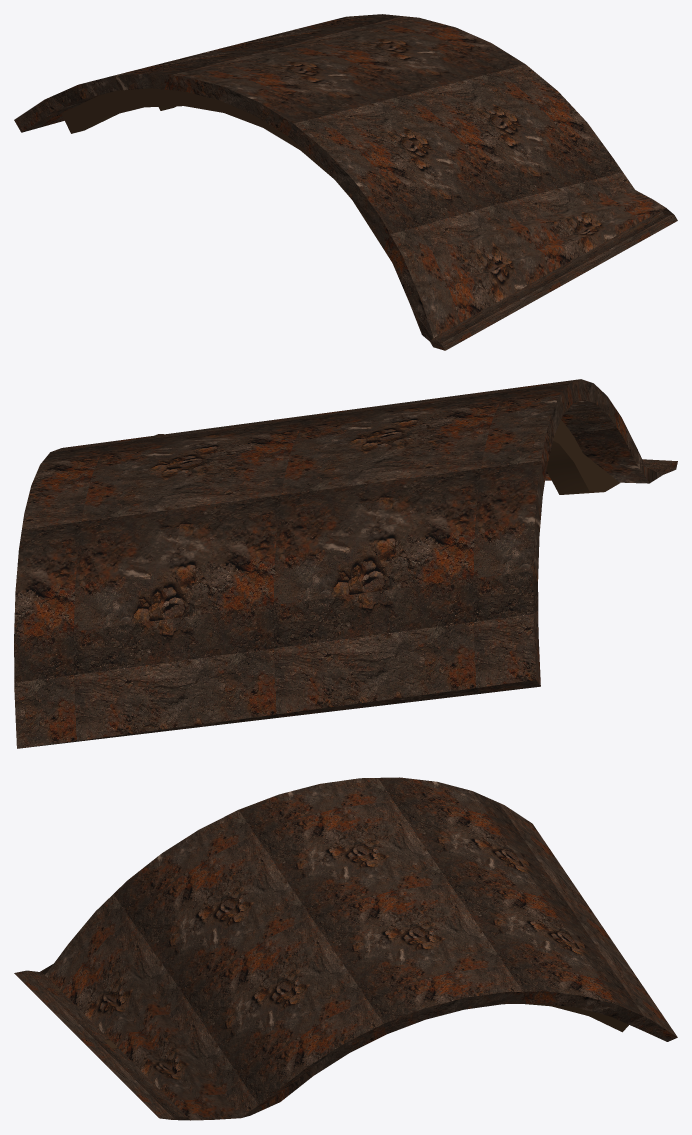
File: ancient-hull-fragment-v01-photo.glb
The picture shows the model from 3 angles, top to bottom: view 1: azimuth 30°, elevation 25°; view 2: azimuth 150°, elevation 25°; view 3: azimuth 270°, elevation 25°; orthographic projection. The views are drawn at different scales.
Parts seen in each view (by area): view 1: ancient-hull-fragment; view 2: ancient-hull-fragment; view 3: ancient-hull-fragment.
Boxes of the visible parts, x1,y1,x2,y2 form: ancient-hull-fragment: (14, 14, 677, 350); ancient-hull-fragment: (14, 379, 677, 748); ancient-hull-fragment: (14, 777, 677, 1120).
Size of the model in its own units: 3.63 by 1.2 by 4.53.
Materials: 2 (2 with a texture image).
